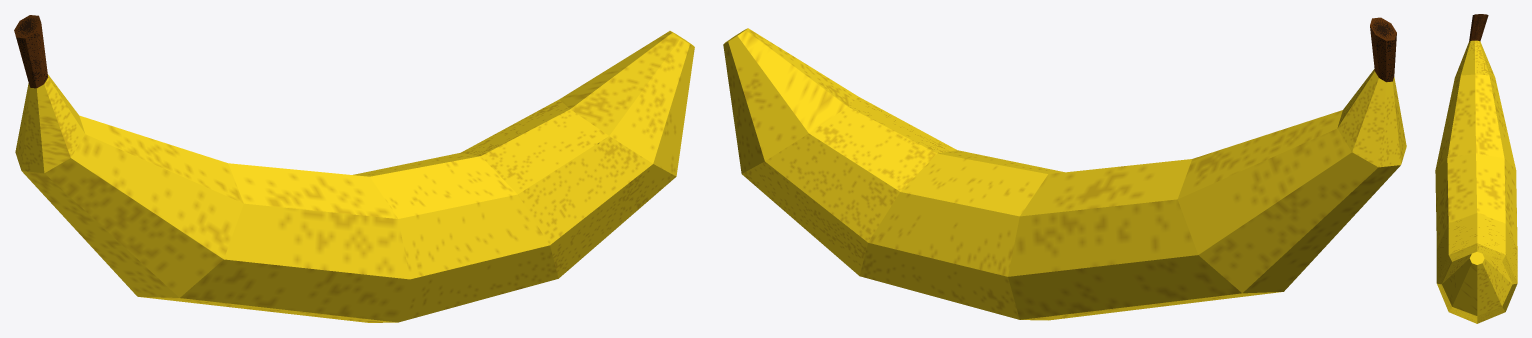
File: banana.glb
3 renders of one model, left to right at view 1: azimuth 30°, elevation 25°; view 2: azimuth 150°, elevation 25°; view 3: azimuth 270°, elevation 25°, orthographic. The views are drawn at different scales.
Parts seen in each view (by area): view 1: Cylinder; view 2: Cylinder; view 3: Cylinder.
Part boxes in pixels (<box>): Cylinder: <box>14,15,694,322</box>; Cylinder: <box>723,17,1406,320</box>; Cylinder: <box>1435,14,1517,323</box>.
Size of the model in its own units: 9.63 by 5.25 by 2.03.
Materials: 1 (1 with a texture image).
